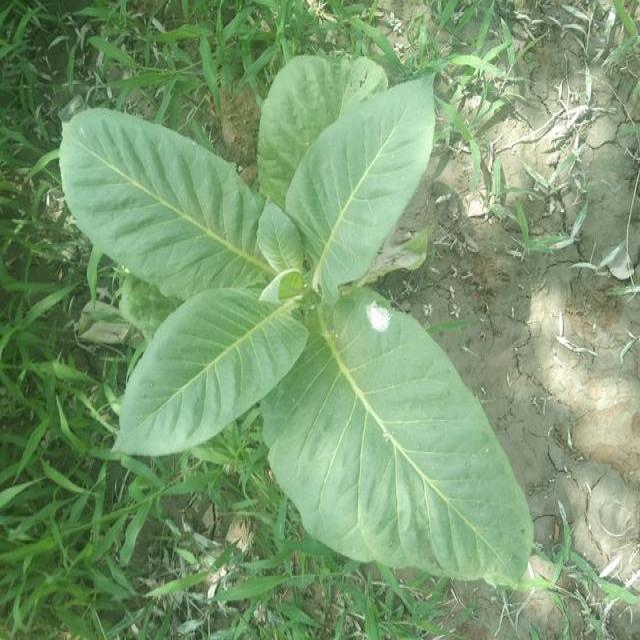crop: (51, 56, 534, 601)
